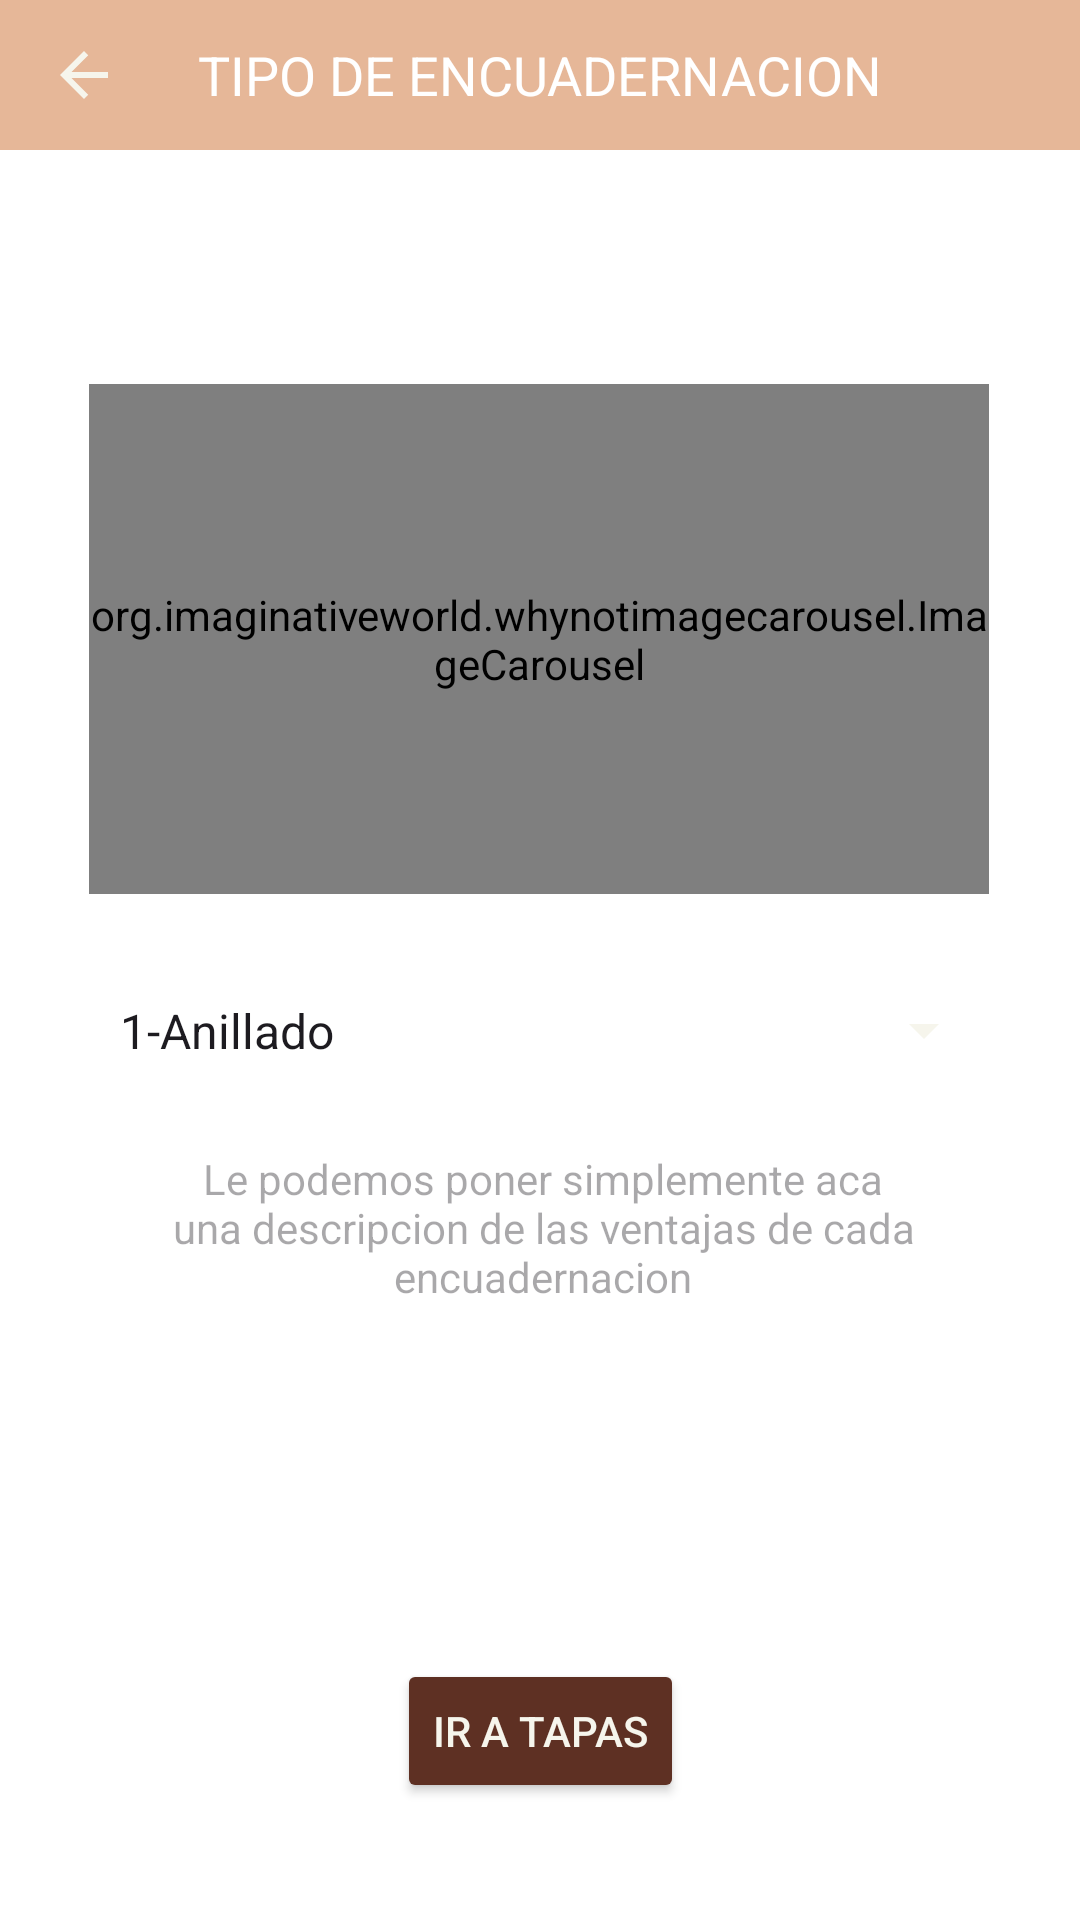

Icons on this 1080×1920 Android screen, each with the point to tap as (x=x, y=y):
back activity: (x=84, y=75)
